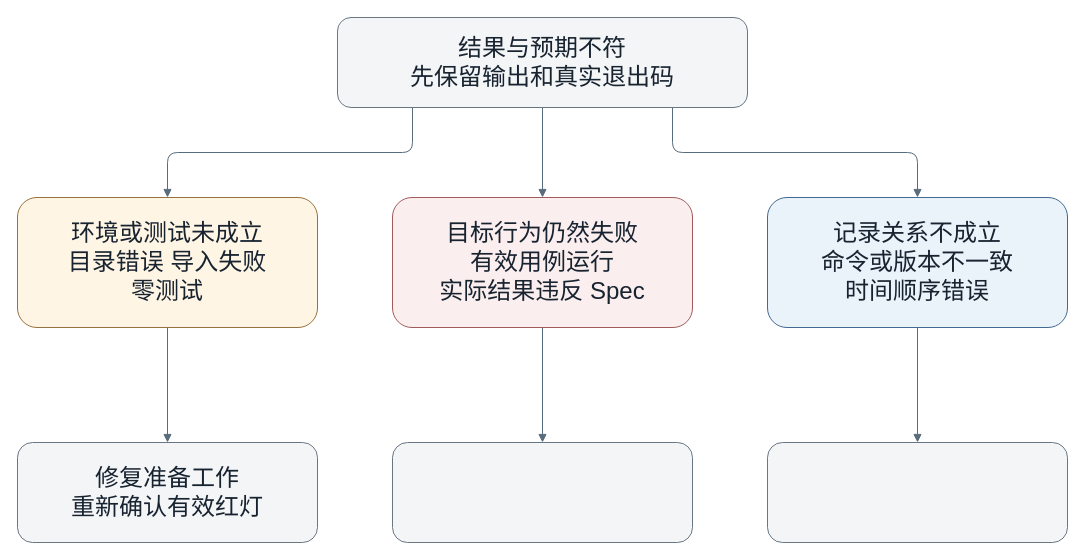
Image size: 1085x560. Some labels were removed from this diagram. The box of each missing label's shape, as (x1, y1, x2, y2) in pixels:
原范围修复实现 新 Diff 与正式复验: (392, 442, 692, 542)
查回原始记录 核对选择与任务归属: (766, 442, 1068, 542)
